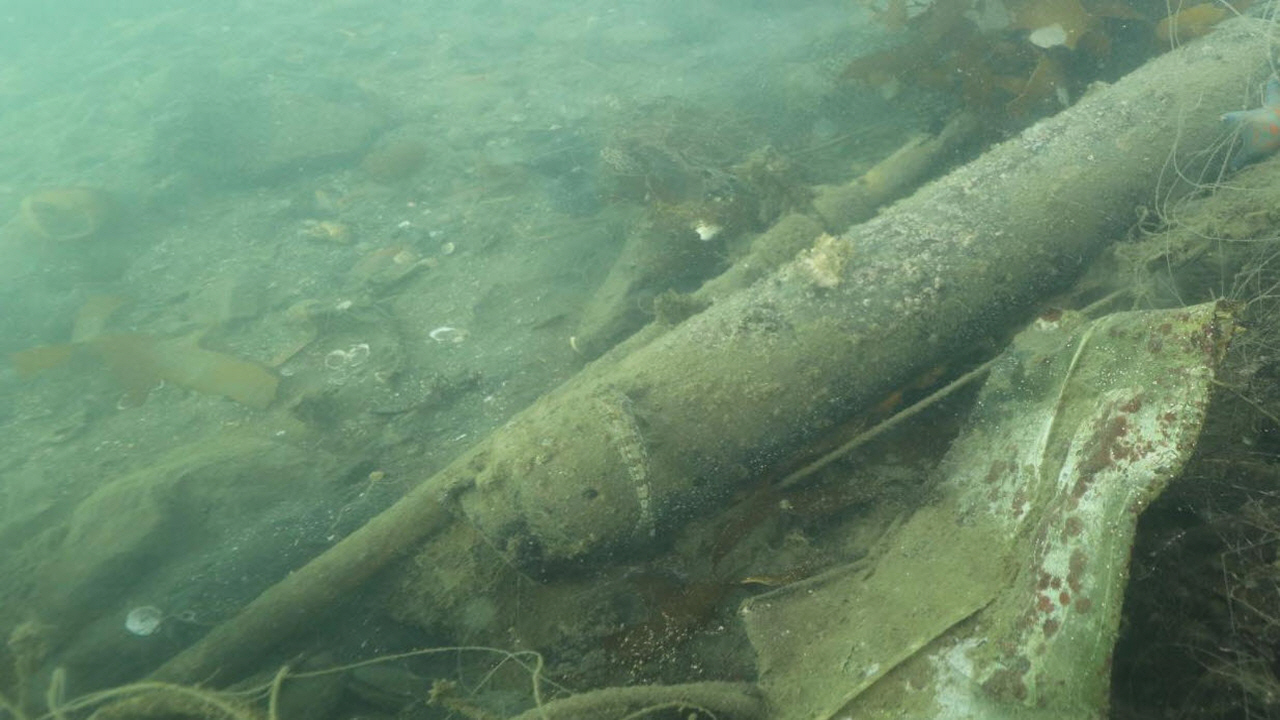eel fish trap: (454, 0, 1280, 586)
